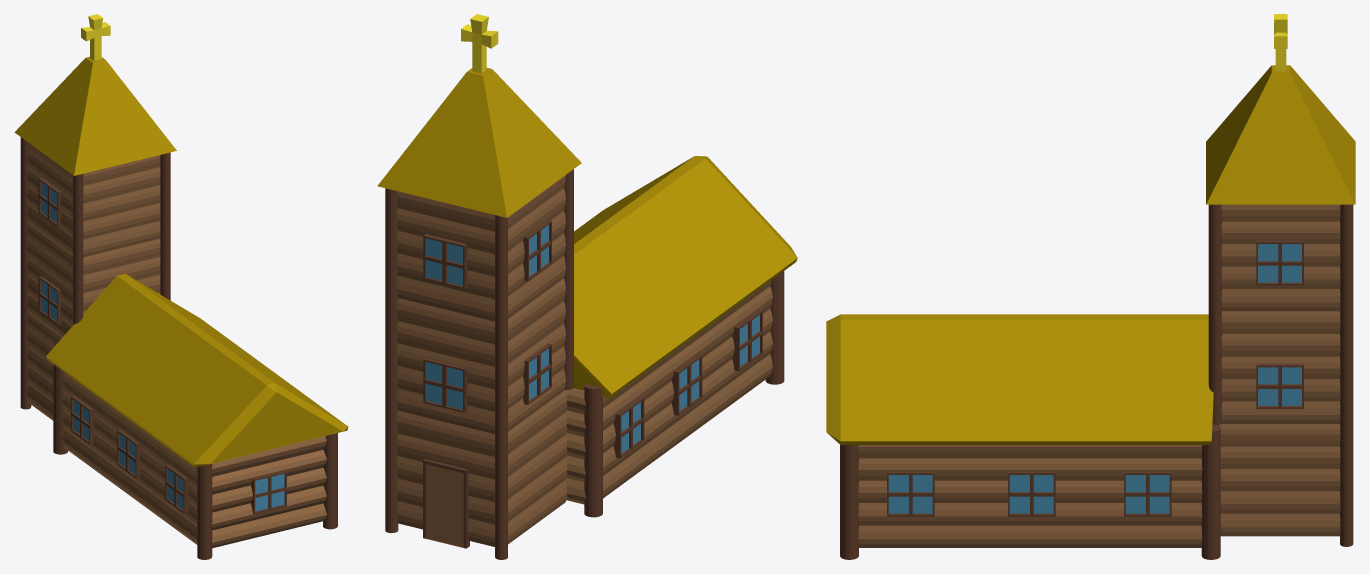
File: Church.dae
The picture shows the model from 3 angles, left to right: view 1: azimuth 30°, elevation 25°; view 2: azimuth 150°, elevation 25°; view 3: azimuth 270°, elevation 25°; orthographic projection. The views are drawn at different scales.
Parts seen in each view (by area): view 1: Cube; view 2: Cube; view 3: Cube.
Boxes of the visible parts, x1,y1,x2,y2 form: Cube: (14, 14, 348, 559); Cube: (377, 14, 797, 559); Cube: (826, 14, 1355, 559).
Bounding box in the file's own units: 2.46 × 5.81 × 6.06.
Materials: 1 (1 with a texture image).
